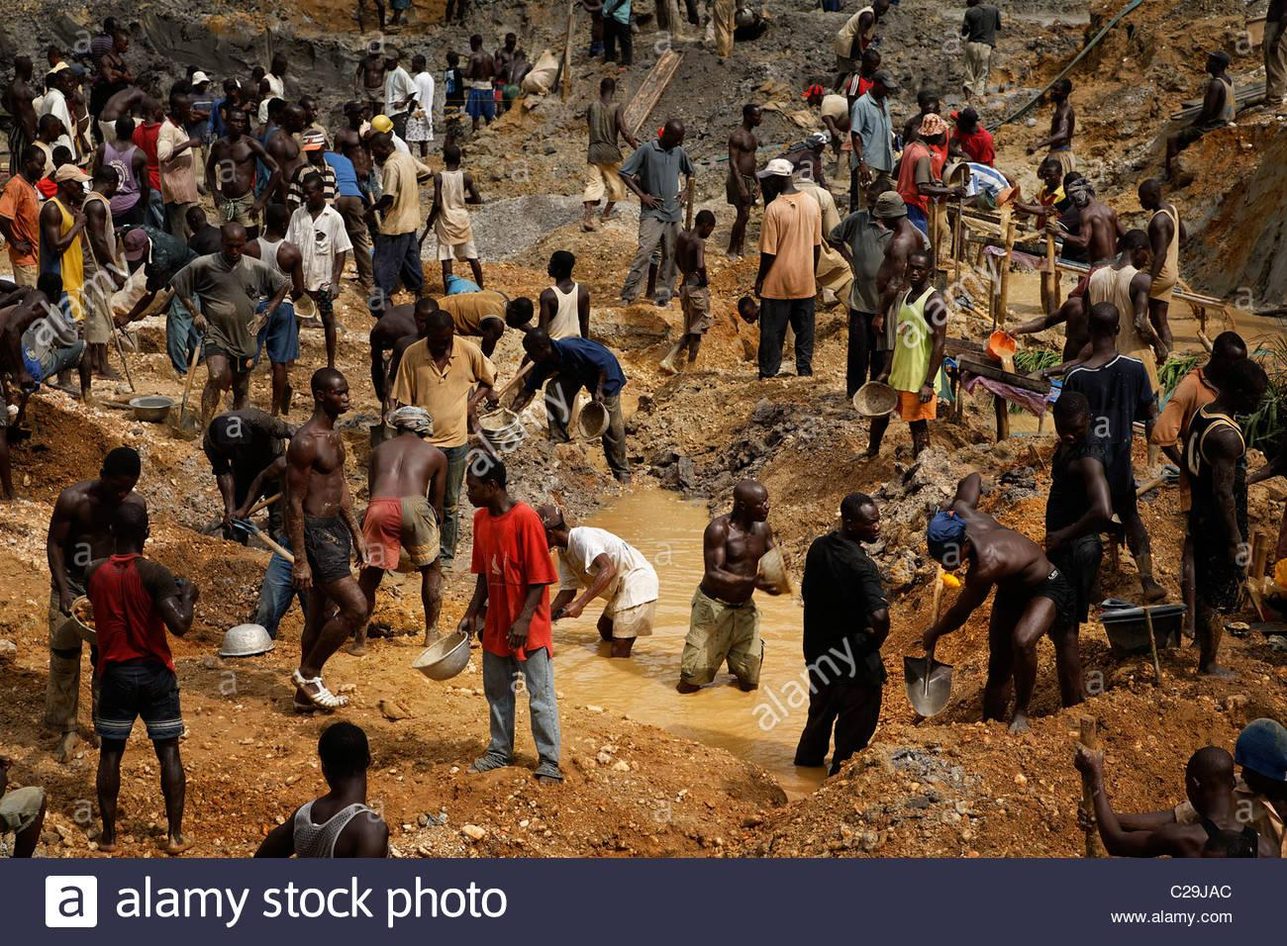MiningTool: (896, 533, 958, 719), (82, 219, 138, 397), (164, 321, 209, 441), (1098, 597, 1185, 653), (203, 487, 292, 537), (231, 511, 298, 566), (408, 628, 473, 681), (219, 620, 279, 659), (754, 541, 793, 597), (847, 380, 901, 419), (8, 373, 38, 440), (70, 594, 100, 650), (574, 399, 614, 441), (131, 393, 170, 423), (480, 431, 529, 452), (942, 158, 972, 192), (480, 409, 519, 434), (289, 290, 320, 320), (988, 330, 1017, 362), (415, 218, 433, 259), (997, 183, 1020, 212)
Person: (85, 499, 200, 856), (921, 469, 1066, 729), (457, 458, 565, 789), (40, 443, 154, 738), (1057, 297, 1165, 603), (1072, 715, 1285, 863), (790, 488, 896, 778), (165, 220, 298, 450), (285, 363, 368, 715), (1168, 330, 1258, 653), (1182, 360, 1271, 680), (389, 308, 500, 561), (1040, 390, 1113, 716), (349, 400, 443, 652), (677, 481, 782, 702), (1080, 227, 1171, 473), (1073, 741, 1259, 859), (537, 496, 661, 658), (858, 250, 951, 462), (247, 725, 395, 856), (236, 437, 324, 652), (522, 328, 637, 492), (749, 154, 823, 382), (826, 176, 899, 405), (112, 221, 208, 378), (1, 268, 62, 504), (1, 269, 101, 412), (614, 115, 687, 305), (871, 187, 938, 392), (423, 283, 533, 403), (43, 163, 97, 397), (200, 407, 290, 547), (295, 177, 356, 379), (534, 247, 595, 444), (1156, 42, 1238, 188), (364, 131, 432, 303), (205, 109, 284, 249), (80, 164, 130, 385), (657, 207, 717, 379), (574, 73, 637, 233), (247, 213, 296, 415), (427, 142, 489, 293), (313, 145, 373, 296), (649, 117, 699, 294), (1132, 179, 1176, 367), (1050, 179, 1135, 267), (157, 94, 207, 239), (1026, 157, 1069, 324), (363, 293, 427, 404), (1, 143, 46, 290), (723, 101, 761, 261), (93, 117, 149, 225), (735, 293, 809, 372), (1, 753, 55, 861), (830, 1, 896, 88), (1035, 75, 1077, 198), (286, 129, 343, 214), (2, 52, 38, 177), (34, 65, 78, 167), (331, 99, 371, 211), (248, 96, 287, 209), (802, 81, 852, 166), (957, 1, 1000, 97), (269, 102, 308, 206), (462, 34, 501, 134), (765, 126, 822, 192), (99, 76, 149, 148), (1256, 1, 1287, 107), (407, 49, 437, 158), (133, 96, 167, 188), (383, 50, 416, 142), (99, 33, 137, 111), (294, 94, 334, 168), (180, 204, 234, 255), (442, 47, 469, 143), (600, 1, 639, 67), (497, 47, 536, 112), (353, 40, 385, 112), (35, 143, 80, 194), (493, 31, 519, 113), (582, 1, 618, 58), (70, 66, 94, 151), (215, 76, 248, 136), (188, 72, 215, 141), (367, 115, 416, 152), (709, 1, 738, 60), (41, 43, 75, 87), (259, 52, 292, 96), (350, 1, 391, 36), (654, 1, 691, 38), (88, 14, 120, 56), (170, 61, 199, 96), (442, 1, 470, 29), (245, 63, 266, 97), (391, 1, 412, 31), (685, 1, 702, 28)
ProcessingEquipment: (970, 224, 1226, 336), (939, 336, 1158, 439), (941, 193, 1077, 258), (615, 48, 687, 144)
